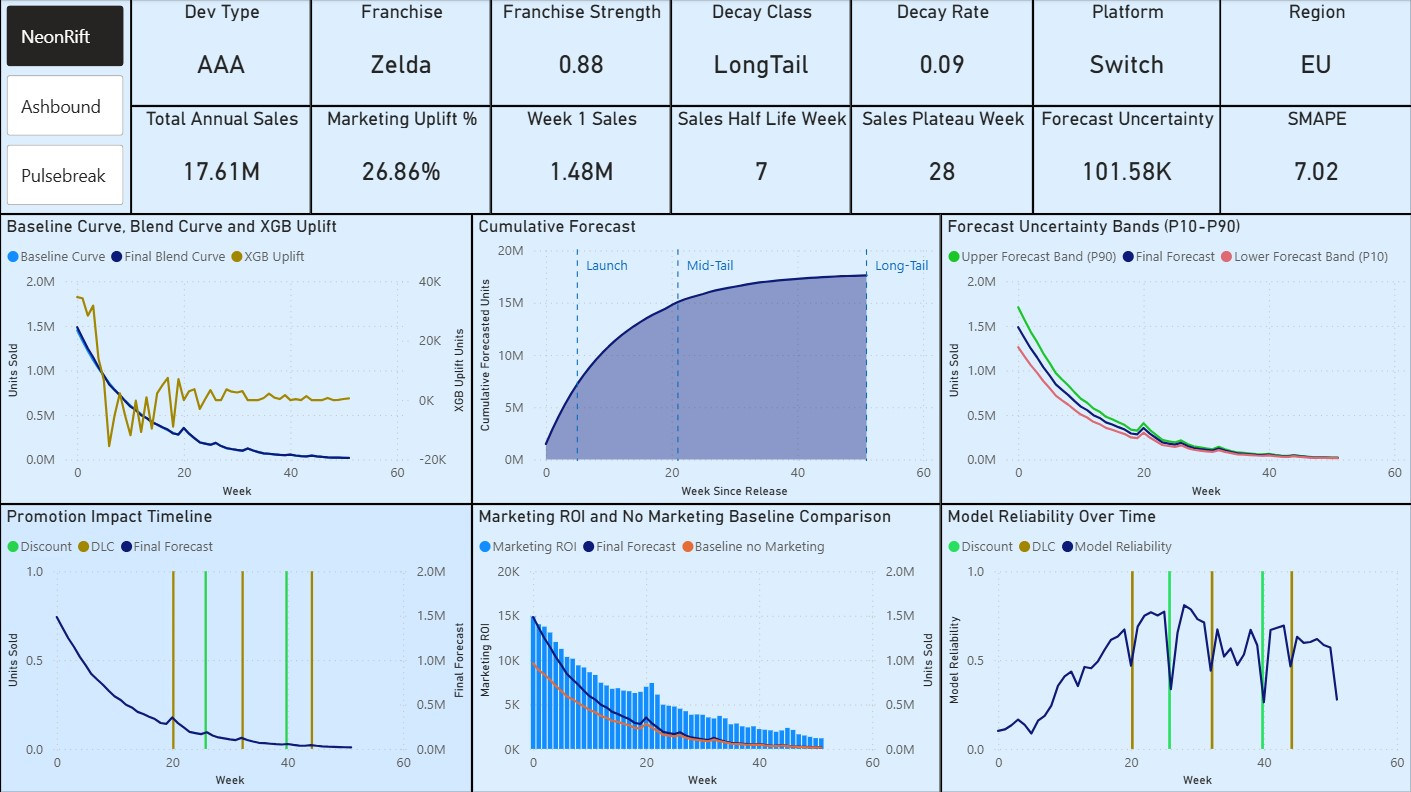

Layout of this report page (visuals, bound fields, positions):
{"tool":"powerbi","page":{"name":"Page 1","canvas":[1280,720],"ordinal":0},"visuals":[{"type":"lineChart","title":"Baseline Curve, Blend Curve and XGB Uplift","fields":{"Category":["new_games_sales_forecast_detailed.week_index"],"Y":["Avg(new_games_sales_forecast_detailed.pred_prior)","Avg(new_games_sales_forecast_detailed.final_pred_blended)"],"Y2":["new_games_sales_forecast_detailed.XGB Uplift"]},"box":[0,194.5,428,262.6],"z":0},{"type":"advancedSlicerVisual","fields":{"Values":["TitleDim.title_name"]},"box":[0,0,118.7,194.5],"z":1000},{"type":"areaChart","title":"Cumulative Forecast","fields":{"Category":["new_games_sales_forecast_detailed.week_index"],"Y":["new_games_sales_forecast_detailed.Cumulative_Blend"]},"box":[428,194.5,425,262.6],"z":2000},{"type":"lineChart","title":"Forecast Uncertainty Bands (P10-P90)","fields":{"Category":["new_games_sales_forecast_detailed.week_index"],"Y":["Sum(new_games_sales_forecast_detailed.blend_p90)","Avg(new_games_sales_forecast_detailed.final_pred_blended)","Sum(new_games_sales_forecast_detailed.blend_p10)"]},"box":[853,194.5,427,262.6],"z":3000},{"type":"lineClusteredColumnComboChart","title":"Promotion  Impact Timeline","fields":{"Category":["new_games_sales_forecast_detailed.week_index"],"Y":["new_games_sales_forecast_detailed.Promo_Discount_Column","new_games_sales_forecast_detailed.Promo_DLC_Column"],"Y2":["Avg(new_games_sales_forecast_detailed.final_pred_blended)"]},"box":[0,457.1,428,262.6],"z":4000},{"type":"lineClusteredColumnComboChart","title":"Marketing ROI and No  Marketing Baseline Comparison","fields":{"Category":["new_games_sales_forecast_detailed.week_index"],"Y2":["Sum(new_games_sales_forecast_detailed.final_pred_blended)","Avg(new_games_sales_forecast_detailed (2).baseline_no_marketing)"],"Y":["new_games_sales_forecast_detailed.Marketing_ROI_Proxy"]},"box":[428,457.1,425,262.6],"z":5000},{"type":"lineClusteredColumnComboChart","title":"Model Reliability Over Time","fields":{"Category":["new_games_sales_forecast_detailed.week_index"],"Y2":["new_games_sales_forecast_detailed.Model_Reliability_Scaled"],"Y":["new_games_sales_forecast_detailed.Promo_Discount_Column","new_games_sales_forecast_detailed.Promo_DLC_Column"]},"box":[853,457.1,427,262.6],"z":6000},{"type":"card","title":"Dev Type","fields":{"Values":["Min(new_games_sales_forecast_detailed.dev_type)"]},"box":[118.8,0,163.2,97],"z":7000},{"type":"card","title":"Franchise","fields":{"Values":["Min(new_games_sales_metadata.franchise)"]},"box":[281.8,0,163.6,97.3],"z":8000},{"type":"card","title":"Franchise Strength","fields":{"Values":["Avg(new_games_sales_metadata.franchise_strength)"]},"box":[445.5,0,162.7,97.3],"z":8001},{"type":"card","title":"Decay Class","fields":{"Values":["Min(new_games_sales_metadata.decay_class)"]},"box":[608.5,0,163.2,97],"z":8002},{"type":"card","title":"Decay Rate","fields":{"Values":["Avg(new_games_sales_metadata.decay_rate_k)"]},"box":[770.9,0,165.5,97.3],"z":8003},{"type":"card","title":"Platform","fields":{"Values":["Min(new_games_sales_metadata.platform)"]},"box":[936.4,0,170,97.3],"z":8004},{"type":"card","title":"Region","fields":{"Values":["Min(new_games_sales_metadata.region)"]},"box":[1106.3,0,174.1,97],"z":8005},{"type":"card","title":"Total Annual Sales","fields":{"Values":["Sum(new_games_sales_forecast_detailed.final_pred_blended)"]},"box":[119.1,97.3,162.7,97.3],"z":8006},{"type":"card","title":"Week 1 Sales","fields":{"Values":["Max(new_games_sales_forecast_detailed.final_pred_blended)"]},"box":[445.5,97.3,162.7,97.3],"z":8007},{"type":"card","title":"Sales Half Life Week","fields":{"Values":["new_games_sales_forecast_detailed.HalfLife_Week"]},"box":[608.2,97.3,163.6,97.3],"z":8008},{"type":"card","title":"SMAPE","fields":{"Values":["Avg(new_games_sales_forecast_detailed.Model_SMAPE)"]},"box":[1106.4,97.3,173.6,97.3],"z":8009},{"type":"card","title":"Sales Plateau Week","fields":{"Values":["new_games_sales_forecast_detailed.Sales_Plateau_Week"]},"box":[770,97.3,166.4,97.3],"z":8010},{"type":"card","title":"Marketing Uplift %","fields":{"Values":["new_games_sales_forecast_detailed (2).Promo_Contribution_Pct"]},"box":[281.8,97.3,163.6,97.3],"z":8011},{"type":"card","title":"Forecast Uncertainty","fields":{"Values":["new_games_sales_forecast_detailed.Forecast Uncertainty Index"]},"box":[936.4,97.3,170,97.3],"z":8012}]}

Visuals, with their boxes in screenshot pixels (x1, y1, x2, y2), scaled from the page's 1280x720 canvas onto the 1411x792 screenshot:
"Baseline Curve, Blend Curve and XGB Uplift" lineChart: <box>0,214,472,503</box>
advancedSlicerVisual - TitleDim.title_name: <box>0,0,131,214</box>
"Cumulative Forecast" areaChart: <box>472,214,940,503</box>
"Forecast Uncertainty Bands (P10-P90)" lineChart: <box>940,214,1410,503</box>
"Promotion  Impact Timeline" lineClusteredColumnComboChart: <box>0,503,472,791</box>
"Marketing ROI and No  Marketing Baseline Comparison" lineClusteredColumnComboChart: <box>472,503,940,791</box>
"Model Reliability Over Time" lineClusteredColumnComboChart: <box>940,503,1410,791</box>
"Dev Type" card: <box>131,0,311,107</box>
"Franchise" card: <box>311,0,491,107</box>
"Franchise Strength" card: <box>491,0,670,107</box>
"Decay Class" card: <box>671,0,851,107</box>
"Decay Rate" card: <box>850,0,1032,107</box>
"Platform" card: <box>1032,0,1220,107</box>
"Region" card: <box>1220,0,1410,107</box>
"Total Annual Sales" card: <box>131,107,311,214</box>
"Week 1 Sales" card: <box>491,107,670,214</box>
"Sales Half Life Week" card: <box>670,107,851,214</box>
"SMAPE" card: <box>1220,107,1410,214</box>
"Sales Plateau Week" card: <box>849,107,1032,214</box>
"Marketing Uplift %" card: <box>311,107,491,214</box>
"Forecast Uncertainty" card: <box>1032,107,1220,214</box>
